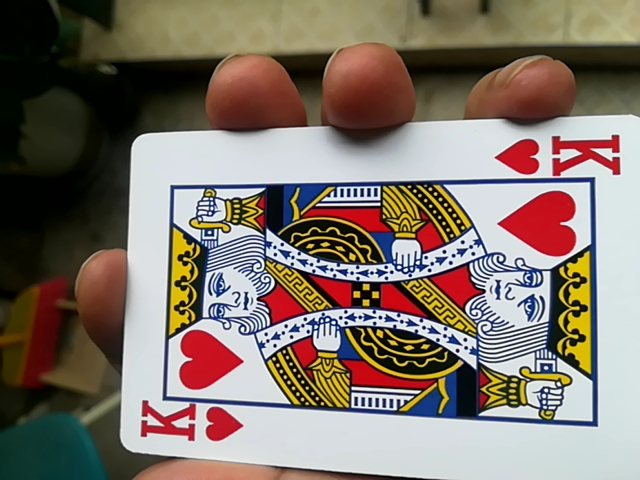hx k: (113, 123, 632, 480)
